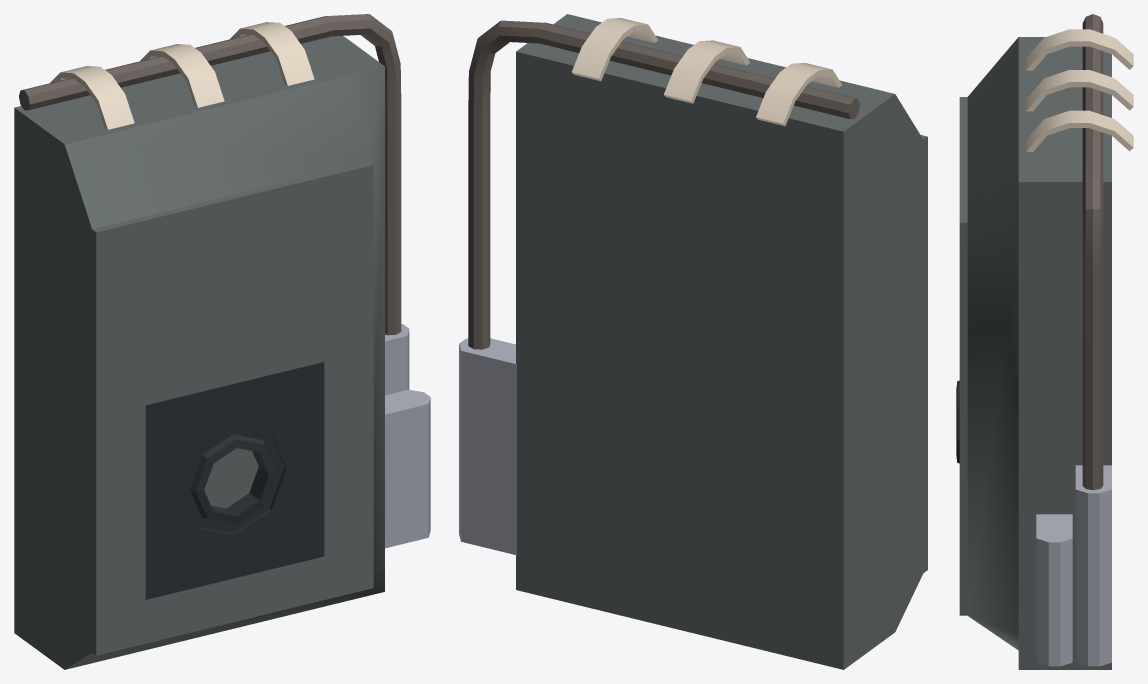
The model's file is SM_transformator.fbx.
3 views of the same model, side by side, from view 1: azimuth 30°, elevation 25°; view 2: azimuth 150°, elevation 25°; view 3: azimuth 270°, elevation 25° (orthographic). The views are drawn at different scales.
Visible parts, largest first — view 1: transformator; view 2: transformator; view 3: transformator.
Boxes of the visible parts, x1=… form: transformator: x1=14, y1=14, x2=430, y2=669; transformator: x1=459, y1=14, x2=927, y2=669; transformator: x1=956, y1=14, x2=1133, y2=669.
Bounding box in the file's own units: 44.37 × 61.77 × 19.19.
